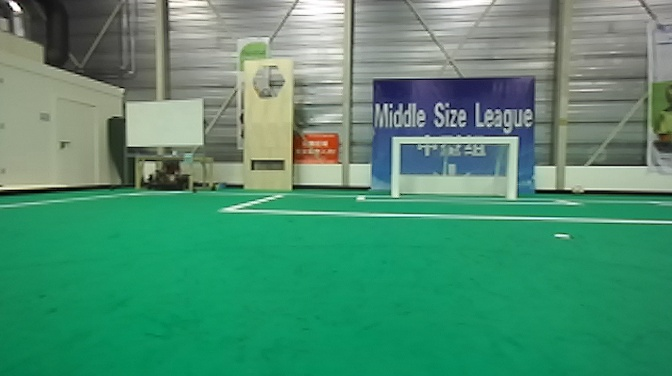ball: (572, 184, 587, 194)
goalpost: (387, 134, 404, 195), (508, 134, 522, 200)
